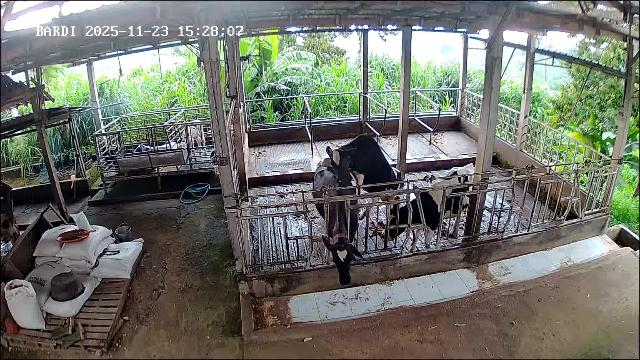mounting: (326, 135, 400, 227)
